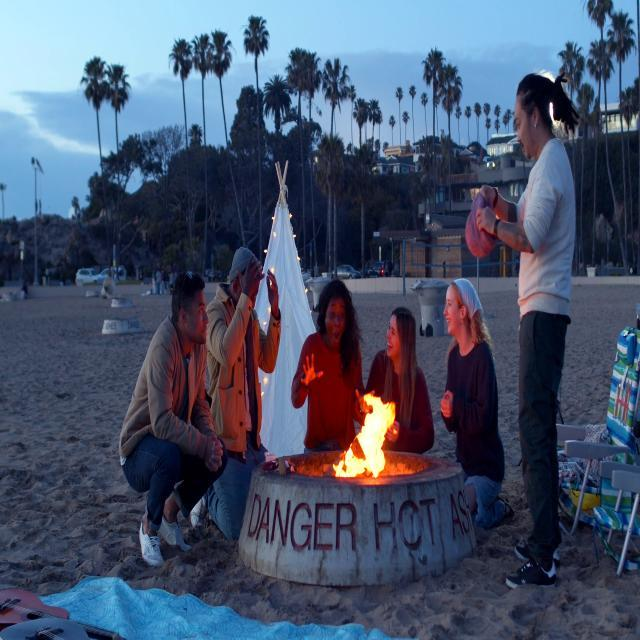Fire: (338, 383, 398, 478)
